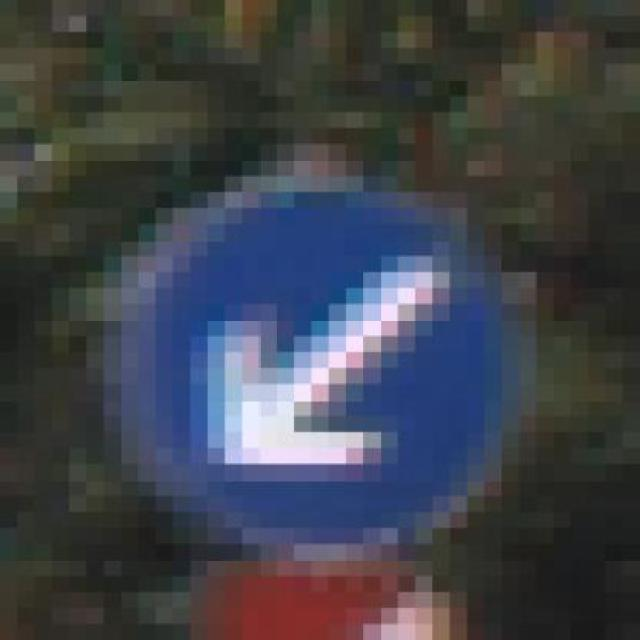Keep-Left: (86, 144, 537, 561)
